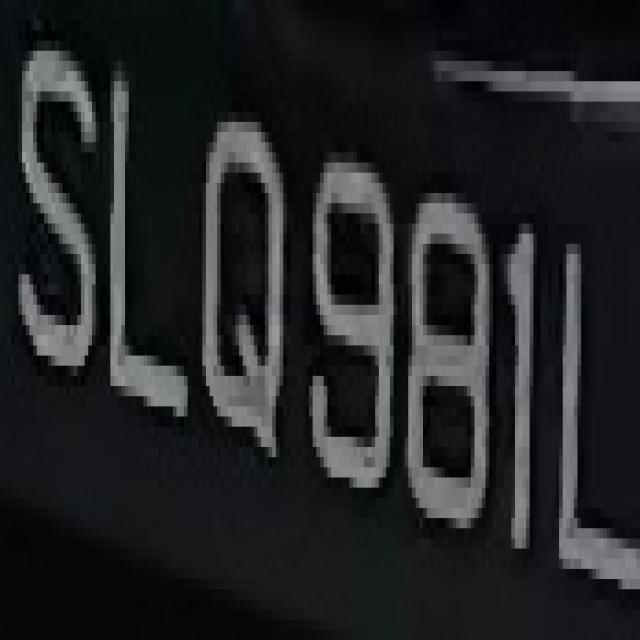1: (493, 203, 552, 569)
8: (393, 162, 504, 558)
9: (313, 112, 390, 518)
L: (100, 31, 192, 457), (548, 203, 629, 630)
Q: (195, 81, 302, 538)
S: (15, 11, 106, 407)
